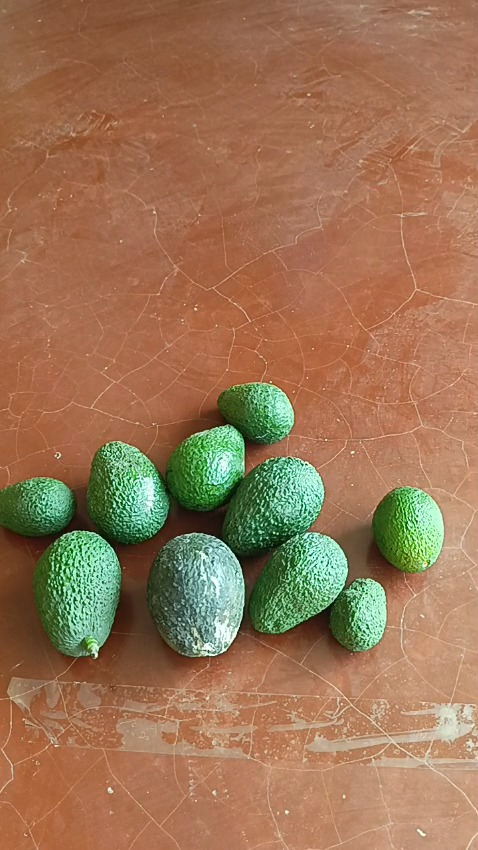Primera: (146, 533, 248, 657), (32, 529, 122, 657), (222, 456, 326, 556), (249, 532, 348, 633), (84, 443, 169, 546), (166, 427, 248, 513)
Segunda: (370, 486, 444, 573), (217, 381, 295, 443), (0, 478, 76, 537)
Tercera: (327, 577, 387, 651)
